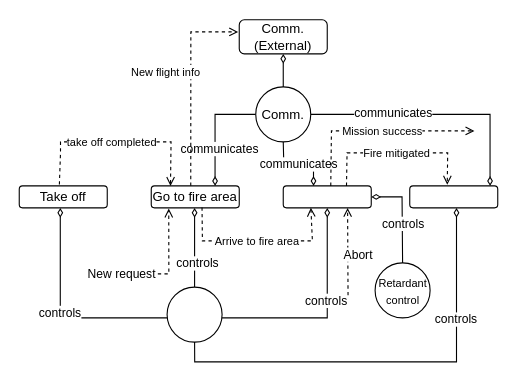
This 518x389 diagram has some shape labels left out. The shapes that lost their labels are listed below. From the top down, each one's centre as x and y in pixels, then its label:
[326,196]: Mitigate fire
[453,196]: Return home
[194,314]: Motor control
